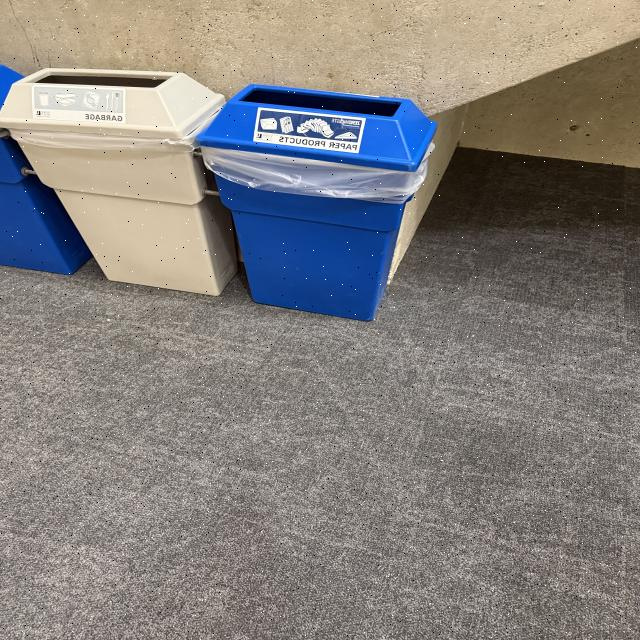Dustbin: (0, 62, 436, 323)
